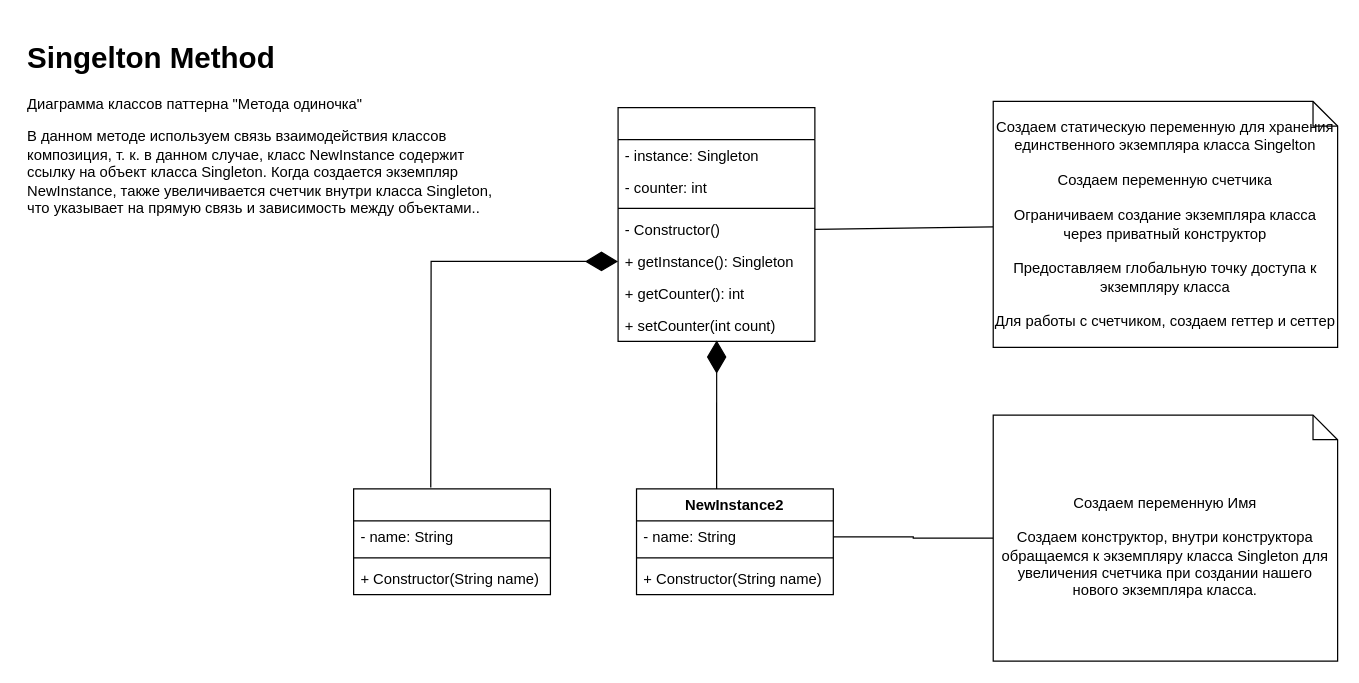
This 1359x683 diagram has some shape labels left out. Each missing label, with the box of its shape:
NewInstance: (352, 488, 550, 595)
Singelton: (617, 106, 815, 341)
